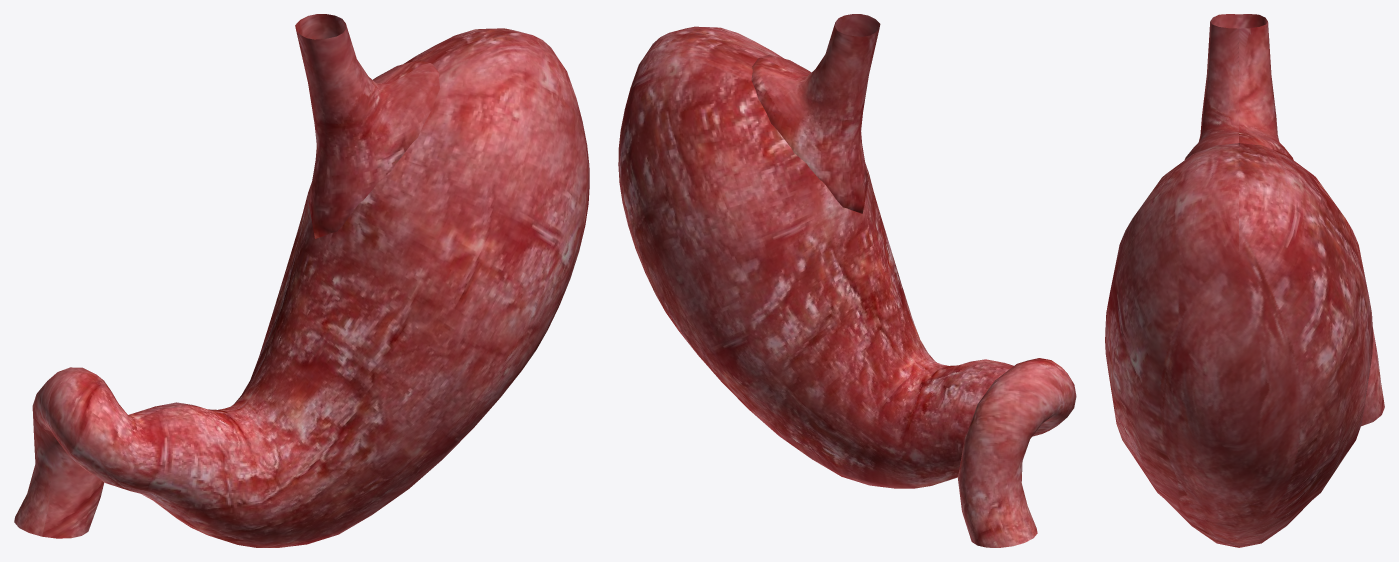
The model's file is Stomach.fbx.
3 renders of one model, left to right at view 1: azimuth 30°, elevation 25°; view 2: azimuth 150°, elevation 25°; view 3: azimuth 270°, elevation 25°, orthographic. The views are drawn at different scales.
Parts seen in each view (by area): view 1: polySurface528, polySurface600, polySurface573, polySurface515, polySurface727, polySurface650, polySurface599, polySurface527, polySurface570, polySurface728, polySurface732, polySurface669 (+52 smaller); view 2: polySurface565, polySurface640, polySurface611, polySurface550, polySurface776, polySurface855, polySurface641, polySurface562, polySurface610, polySurface854, polySurface858, polySurface793 (+50 smaller); view 3: polySurface677, polySurface801, polySurface673, polySurface802, polySurface800, polySurface797, polySurface676, polySurface674, polySurface803, polySurface780, polySurface654, polySurface675 (+139 smaller).
Part boxes in pixels (x1=…): polySurface528: x1=376, y1=365, x2=434, y2=422; polySurface600: x1=399, y1=334, x2=455, y2=392; polySurface573: x1=364, y1=307, x2=416, y2=364; polySurface515: x1=346, y1=340, x2=398, y2=396; polySurface727: x1=458, y1=220, x2=514, y2=273; polySurface650: x1=415, y1=190, x2=471, y2=245; polySurface599: x1=416, y1=307, x2=471, y2=362; polySurface527: x1=408, y1=392, x2=462, y2=444; polySurface570: x1=378, y1=278, x2=429, y2=333; polySurface728: x1=445, y1=246, x2=502, y2=297; polySurface732: x1=472, y1=193, x2=524, y2=246; polySurface669: x1=430, y1=166, x2=483, y2=219; polySurface565: x1=756, y1=326, x2=807, y2=377; polySurface640: x1=737, y1=299, x2=788, y2=349; polySurface611: x1=772, y1=274, x2=818, y2=325; polySurface550: x1=788, y1=304, x2=834, y2=353; polySurface776: x1=723, y1=170, x2=773, y2=219; polySurface855: x1=685, y1=197, x2=735, y2=244; polySurface641: x1=724, y1=275, x2=772, y2=323; polySurface562: x1=731, y1=350, x2=779, y2=396; polySurface610: x1=761, y1=249, x2=805, y2=298; polySurface854: x1=696, y1=220, x2=746, y2=265; polySurface858: x1=676, y1=173, x2=722, y2=220; polySurface793: x1=713, y1=149, x2=760, y2=196; polySurface677: x1=1206, y1=413, x2=1238, y2=438; polySurface801: x1=1239, y1=413, x2=1271, y2=438; polySurface673: x1=1141, y1=371, x2=1174, y2=418; polySurface802: x1=1271, y1=398, x2=1303, y2=433; polySurface800: x1=1239, y1=391, x2=1271, y2=416; polySurface797: x1=1303, y1=371, x2=1336, y2=418; polySurface676: x1=1174, y1=398, x2=1206, y2=433; polySurface674: x1=1206, y1=391, x2=1238, y2=416; polySurface803: x1=1271, y1=378, x2=1303, y2=412; polySurface780: x1=1304, y1=390, x2=1338, y2=437; polySurface654: x1=1140, y1=390, x2=1173, y2=437; polySurface675: x1=1175, y1=378, x2=1206, y2=412.
Size of the model in its own units: 24.03 by 23.23 by 11.26.
Materials: 1 (1 with a texture image).
